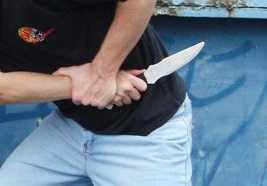knife: (118, 38, 206, 108)
